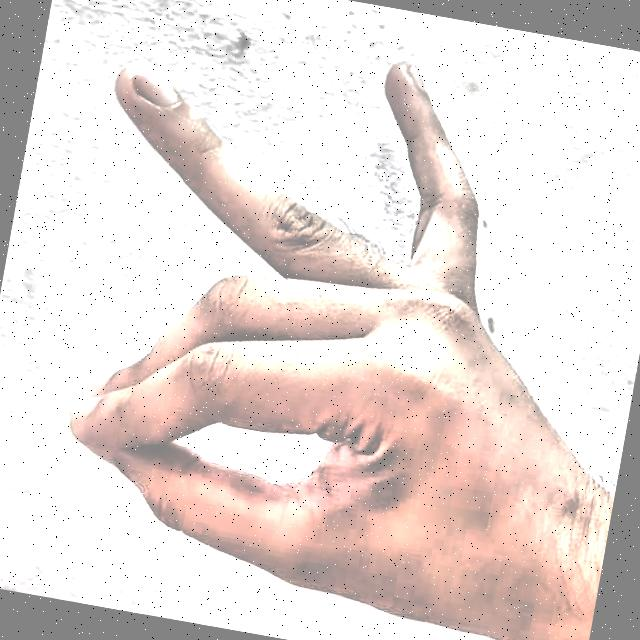Na: (9, 0, 633, 640)
